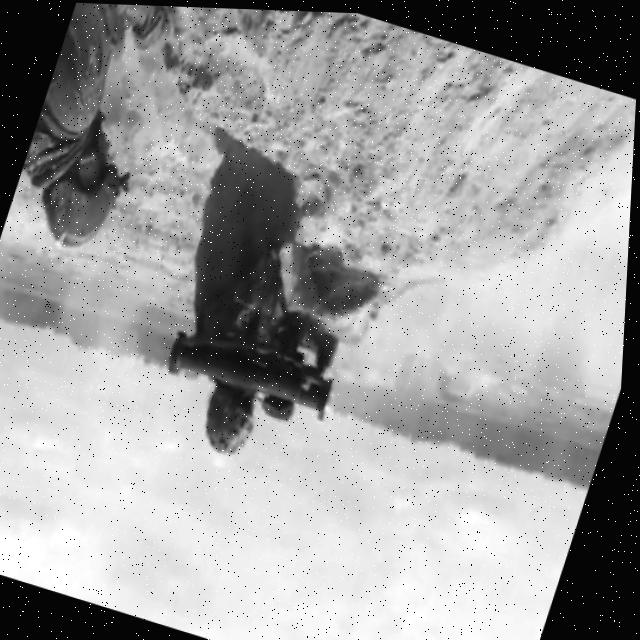rocket: (155, 310, 351, 439)
